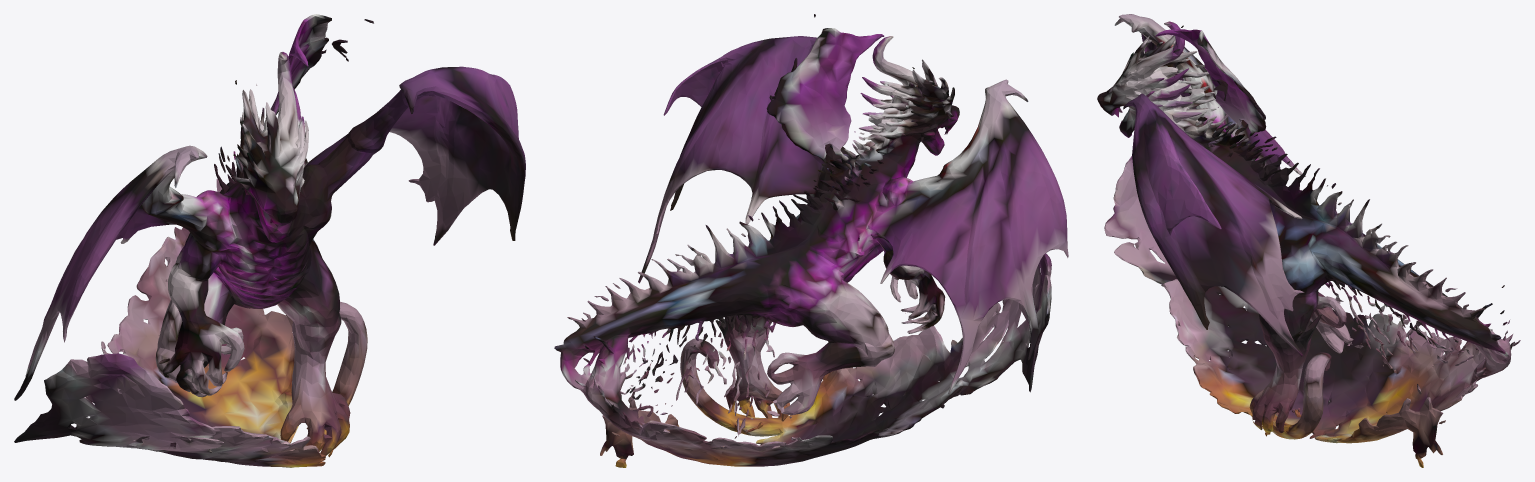
File: griffin.glb
3 views of the same model, side by side, from view 1: azimuth 30°, elevation 25°; view 2: azimuth 150°, elevation 25°; view 3: azimuth 270°, elevation 25° (orthographic). The views are drawn at different scales.
Visible parts, largest first — view 1: world; view 2: world; view 3: world.
Part boxes in pixels (bbox=[...]): world: bbox=[14, 14, 525, 467]; world: bbox=[554, 14, 1068, 467]; world: bbox=[1097, 14, 1520, 467].
Size of the model in its own units: 1 by 1 by 0.9754.
